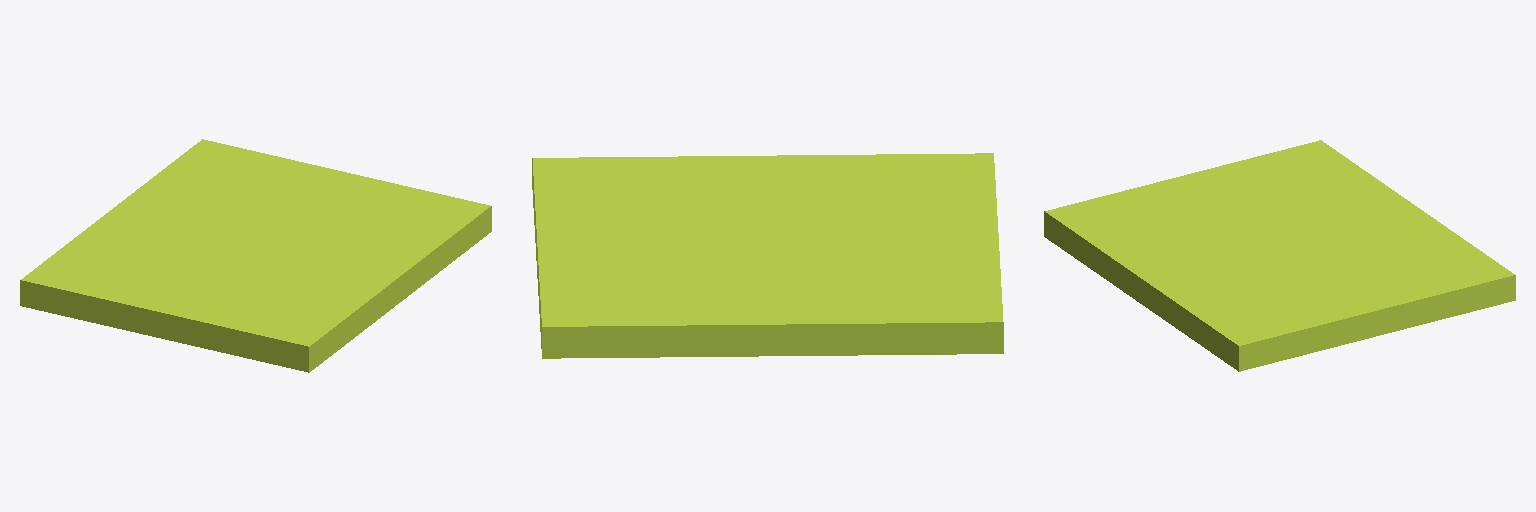
robot.urdf — Interference:
<?xml version="1.0"?>
<robot name="Interference">
  <link name="baseLink">
    <inertial>
      <origin xyz="0.0 0.0 0.0" rpy="0.0 0.0 0.0"/>
      <inertia ixx="0.0" ixy="0.0" ixz="0.0" iyy="0.0" iyz="0.0" izz="0.0"/>
      <mass value="0"/>
    </inertial>
    <visual>
      <origin xyz="0.0 0.0 0.0" rpy="0.0 0.0 -1.0233379073751605"/>
      <geometry>
        <box size="0.11427388119876401 0.13187933377382927 0.01"/>
      </geometry>
      <material name="color">
        <color rgba="0.7935919882682747 0.8874484523442253 0.32985674425864386 1.0"/>
      </material>
    </visual>
  </link>
</robot>

--- Render facts (derived) ---
The picture shows the robot from 3 angles, left to right: view 1: azimuth 30°, elevation 25°; view 2: azimuth 150°, elevation 25°; view 3: azimuth 270°, elevation 25°; orthographic projection.
Robot: Interference — 1 links, 0 joints (none); root link baseLink; default pose: every joint at zero.
Visible links, largest first — view 1: baseLink; view 2: baseLink; view 3: baseLink.
Boxes of the visible links, x1=… form: baseLink: x1=20, y1=139, x2=491, y2=372; baseLink: x1=532, y1=153, x2=1003, y2=358; baseLink: x1=1044, y1=140, x2=1515, y2=371.
Bounding box of the posed robot: 0.1721 × 0.1662 × 0.01 m (x, y, z).
Geometry: primitives only (box / cylinder / sphere), no mesh files.